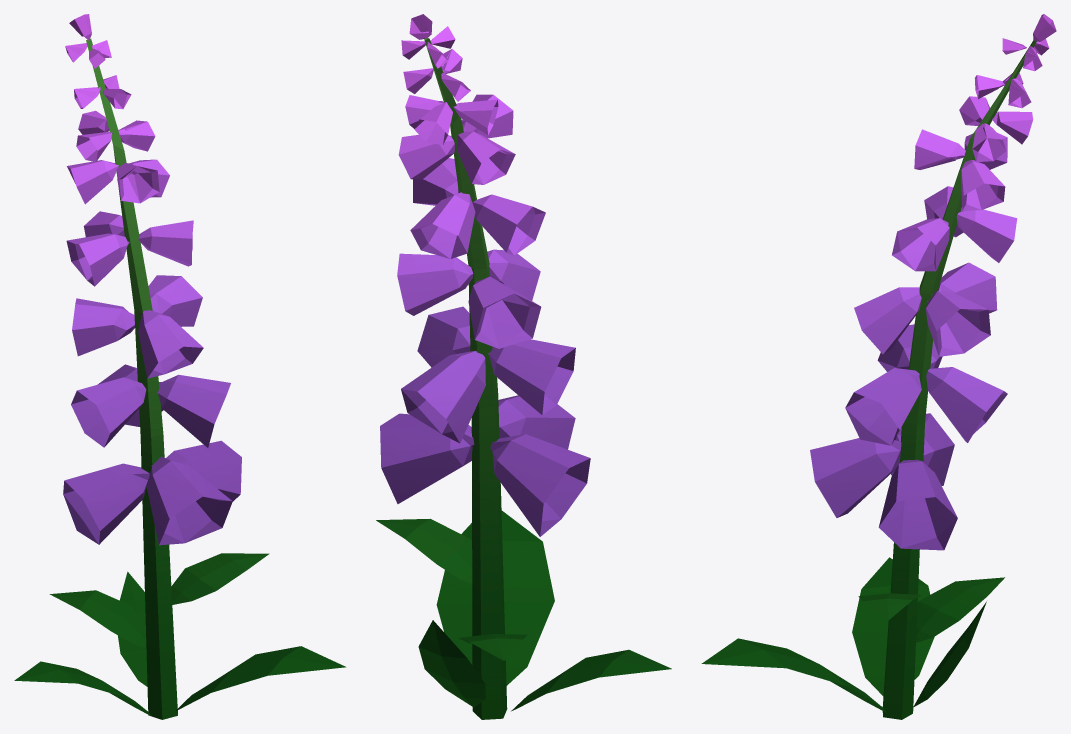
File: Flower_Foxglove_01.fbx
3 views of the same model, side by side, from view 1: azimuth 30°, elevation 25°; view 2: azimuth 150°, elevation 25°; view 3: azimuth 270°, elevation 25° (orthographic). The views are drawn at different scales.
Visible parts, largest first — view 1: Flower_Foxglove_01; view 2: Flower_Foxglove_01; view 3: Flower_Foxglove_01.
Boxes of the visible parts, x1,y1,x2,y2 form: Flower_Foxglove_01: (14, 14, 346, 719); Flower_Foxglove_01: (376, 14, 671, 719); Flower_Foxglove_01: (701, 14, 1056, 719).
Bounding box in the file's own units: 28.82 × 70.37 × 32.7.
